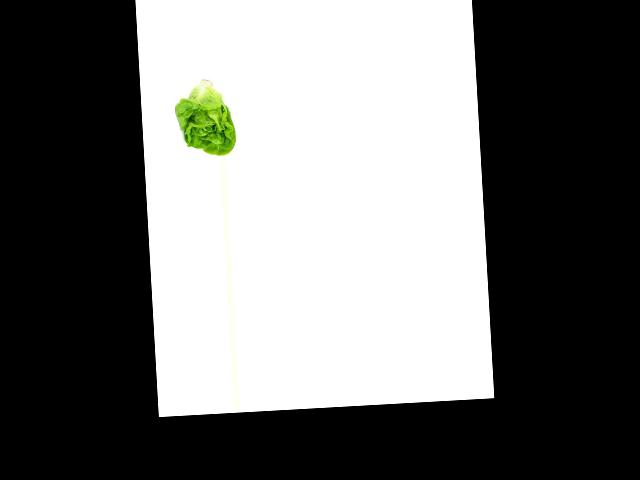lettuce: (169, 75, 238, 158)
